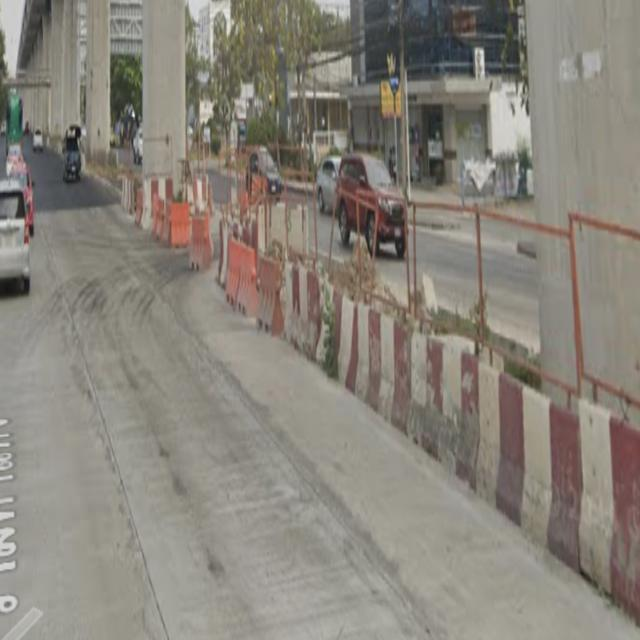fallen_object: (449, 342, 640, 594), (307, 285, 470, 466), (207, 219, 326, 349), (117, 173, 228, 257)
